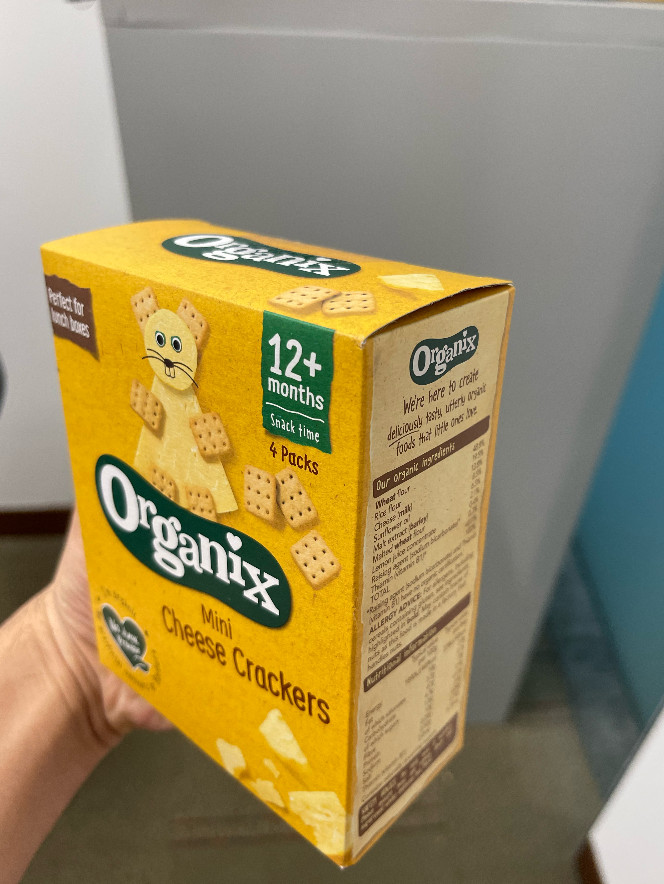crackers_1g-99g: (74, 247, 472, 775)
